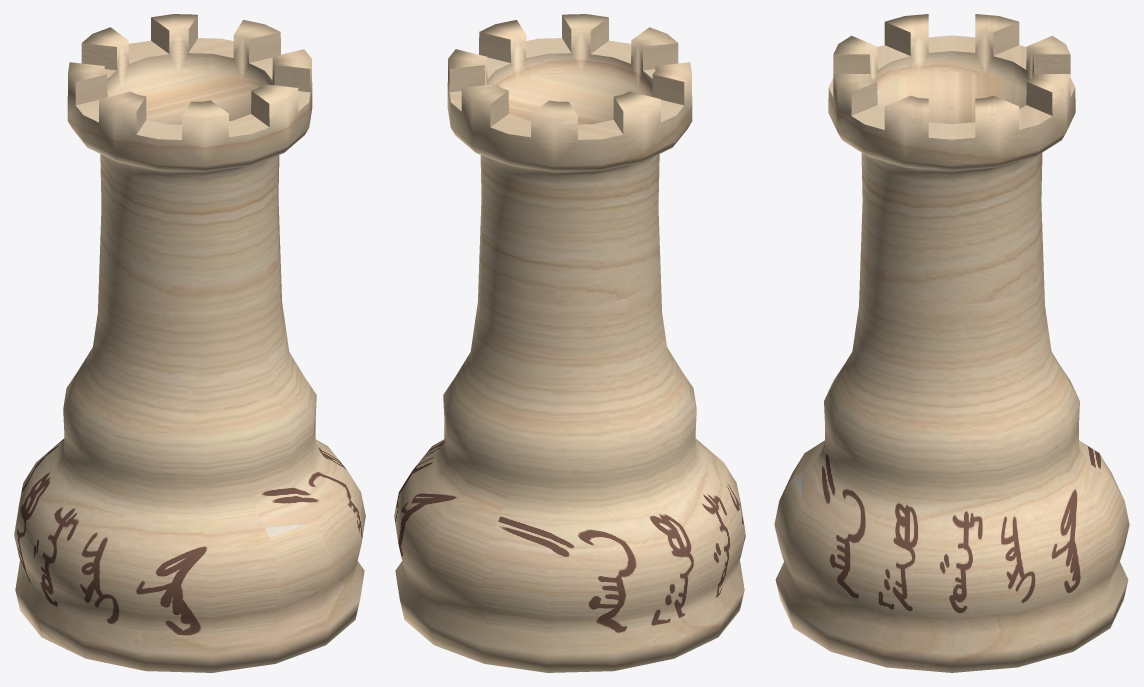
The model's file is Torre.fbx.
3 renders of one model, left to right at view 1: azimuth 30°, elevation 25°; view 2: azimuth 150°, elevation 25°; view 3: azimuth 270°, elevation 25°, orthographic.
Visible parts, largest first — view 1: Torre; view 2: Torre; view 3: Torre.
Part boxes in pixels (bbox=[...]): Torre: bbox=[14, 14, 365, 672]; Torre: bbox=[394, 14, 745, 672]; Torre: bbox=[774, 14, 1129, 672].
Size of the model in its own units: 63.09 by 106 by 63.09.
2 materials, 2 textured.
